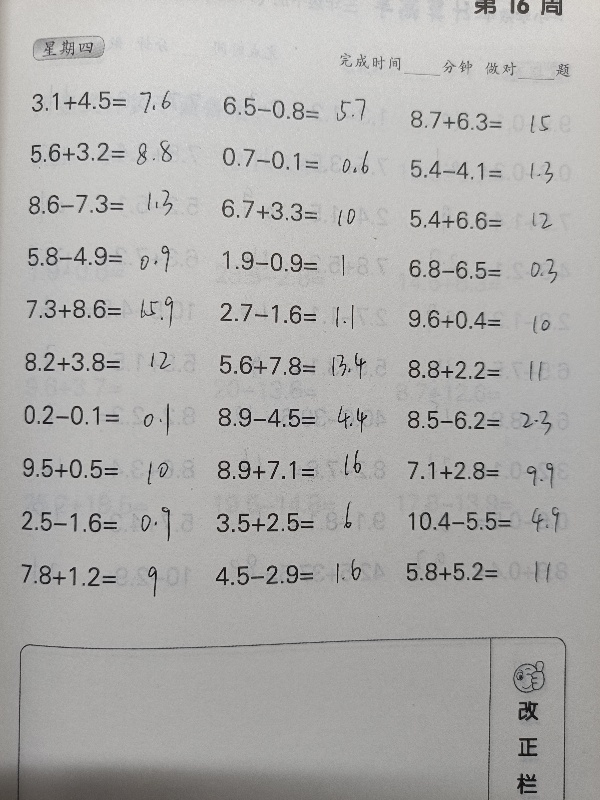equation: (12, 557, 192, 593), (13, 503, 193, 539), (19, 185, 199, 221), (206, 557, 386, 592), (14, 450, 194, 485), (210, 400, 390, 435), (15, 397, 195, 432), (210, 347, 390, 382), (213, 244, 393, 279), (20, 239, 200, 274), (22, 134, 202, 169), (214, 91, 394, 126), (397, 554, 577, 588), (207, 505, 387, 539), (400, 504, 580, 538), (398, 453, 578, 487), (209, 453, 389, 487), (399, 403, 579, 437), (399, 352, 579, 386), (17, 345, 197, 379), (399, 302, 579, 336), (211, 296, 391, 330), (18, 292, 198, 326), (400, 252, 580, 286), (401, 202, 581, 236), (212, 193, 392, 227), (401, 152, 581, 186), (213, 142, 393, 176), (23, 84, 203, 118), (401, 104, 581, 137)
